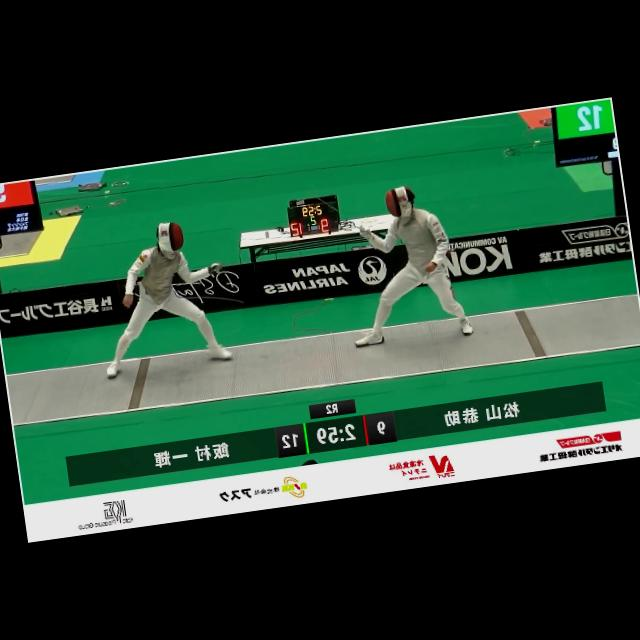blade: (308, 185, 370, 242)
